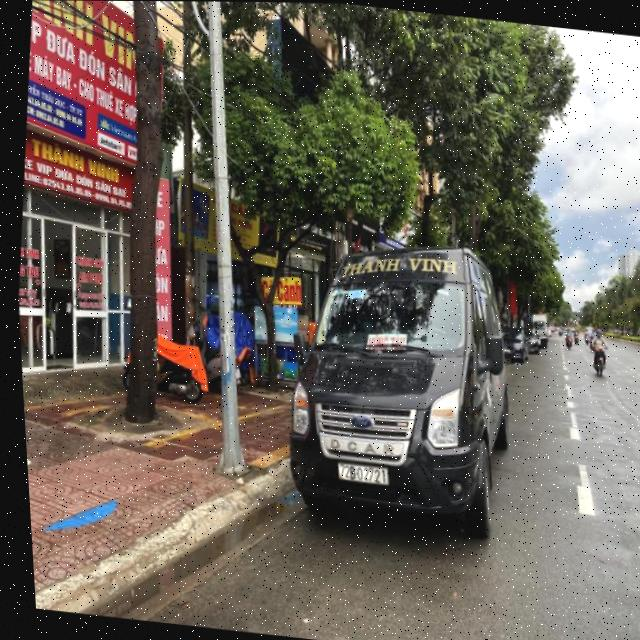car: (269, 224, 538, 546)
motorcycle: (581, 339, 616, 381)
plate: (330, 455, 396, 490)
